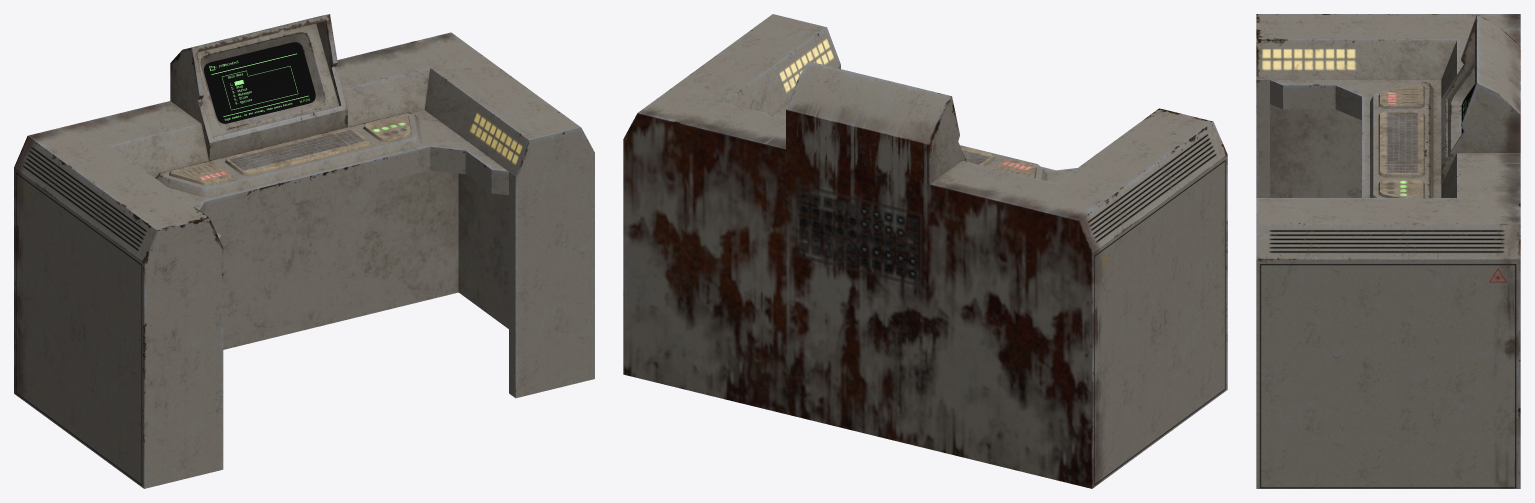
Rendered from retro_command_console_aged.glb.
The picture shows the model from 3 angles, left to right: view 1: azimuth 30°, elevation 25°; view 2: azimuth 150°, elevation 25°; view 3: azimuth 270°, elevation 25°; orthographic projection. The views are drawn at different scales.
Parts seen in each view (by area): view 1: Computer; view 2: Computer; view 3: Computer.
Part boxes in pixels (left/top/right/bottom): Computer: left=14, top=14, right=594, bottom=488; Computer: left=623, top=14, right=1227, bottom=488; Computer: left=1256, top=14, right=1520, bottom=488.
Size of the model in its own units: 100 by 68.62 by 50.
Materials: 2 (2 with a texture image).
